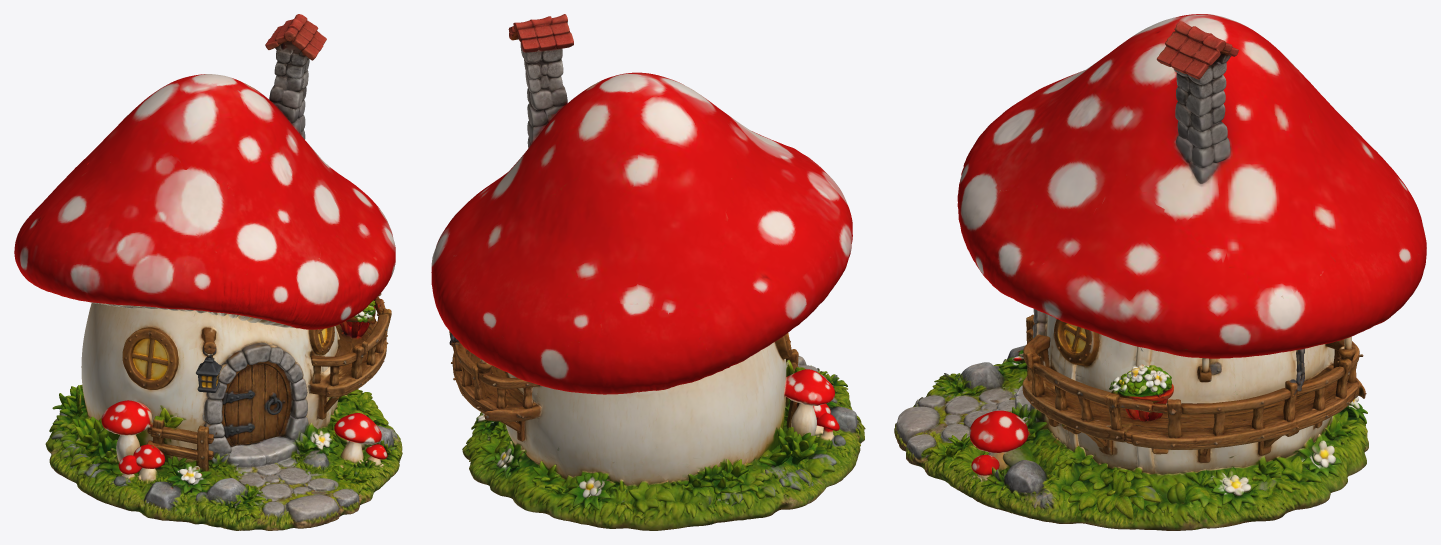
Rendered from mushroom-house.glb.
3 renders of one model, left to right at view 1: azimuth 30°, elevation 25°; view 2: azimuth 150°, elevation 25°; view 3: azimuth 270°, elevation 25°, orthographic. The views are drawn at different scales.
Parts seen in each view (by area): view 1: mushroom-house; view 2: mushroom-house; view 3: mushroom-house.
Boxes of the visible parts, x1=… form: mushroom-house: x1=14, y1=14, x2=402, y2=530; mushroom-house: x1=431, y1=14, x2=865, y2=530; mushroom-house: x1=894, y1=14, x2=1426, y2=530.
Bounding box in the file's own units: 4.4 × 4.84 × 5.
1 material, 1 textured.
